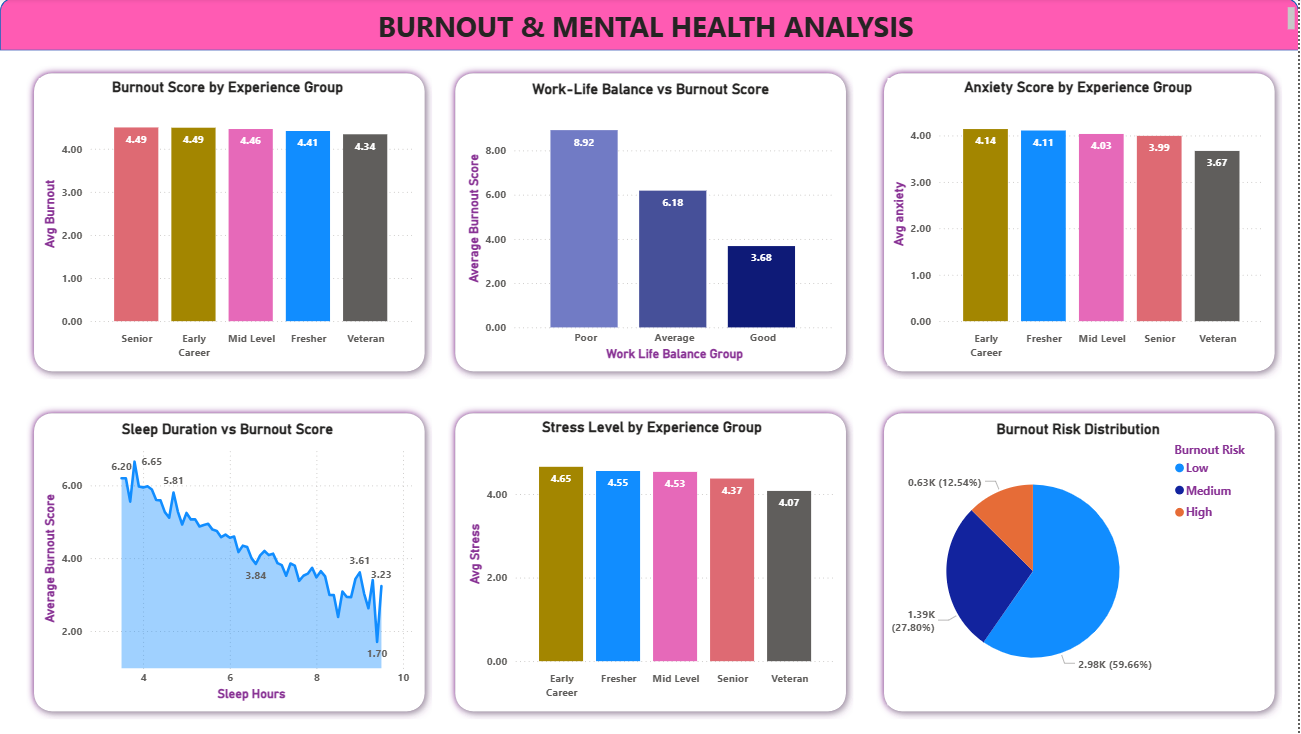

The page's visual inventory and layout, read from the dashboard file:
{"tool":"powerbi","page":{"name":"Page 3","canvas":[1500,850],"ordinal":2},"visuals":[{"type":"shape","box":[0,0,1499.9,60.6],"z":0},{"type":"textbox","box":[0,5.8,1499.9,49.1],"z":1000},{"type":"shape","box":[1012,78,469.2,362.3],"z":2000},{"type":"shape","box":[516.8,78,469.2,362.3],"z":3000},{"type":"shape","box":[1012,470.6,469.2,362.3],"z":4000},{"type":"shape","box":[30.3,78,469.2,362.3],"z":5000},{"type":"shape","box":[30.3,470.6,469.2,362.3],"z":6000},{"type":"shape","box":[516.8,470.6,469.2,362.3],"z":7000},{"type":"clusteredColumnChart","title":"Burnout Score by Experience Group","fields":{"Category":["public developer_burnout_data.Experience Group"],"Y":["public developer_burnout_data.Avg Burnout"]},"box":[44.8,92.4,436,332],"z":8000},{"type":"clusteredColumnChart","title":"Stress Level by Experience Group","fields":{"Category":["public developer_burnout_data.Experience Group"],"Y":["public developer_burnout_data.Avg Stress"]},"box":[535.6,485.1,434.5,332],"z":9000},{"type":"clusteredColumnChart","title":"Anxiety Score by Experience Group","fields":{"Category":["public developer_burnout_data.Experience Group"],"Y":["public developer_burnout_data.Avg anxiety"]},"box":[1025,92.4,440.3,332],"z":10000},{"type":"areaChart","title":"Sleep Duration vs Burnout Score","fields":{"Category":["public developer_burnout_data.sleep_hours"],"Y":["Avg(public developer_burnout_data.burnout_score)"]},"box":[44.8,487.9,436,329.1],"z":11000},{"type":"clusteredColumnChart","title":"Work-Life Balance vs Burnout Score","fields":{"Y":["Avg(public developer_burnout_data.burnout_score)"],"Category":["public developer_burnout_data.Work Life Balance Group"]},"box":[534.1,95.3,434.5,329.1],"z":12000},{"type":"pieChart","title":"Burnout Risk Distribution","fields":{"Category":["public developer_burnout_data.burnout_risk_category"],"Y":["CountNonNull(public developer_burnout_data.developer_id)"]},"box":[1025,487.9,440.3,329.1],"z":13000}]}

Visuals, with their boxes in screenshot pixels (x1, y1, x2, y2), scaled from the page's 1500x850 canvas onto the 1301x734 screenshot:
shape: {"left": 0, "top": 0, "right": 1300, "bottom": 52}
textbox: {"left": 0, "top": 5, "right": 1300, "bottom": 47}
shape: {"left": 878, "top": 67, "right": 1285, "bottom": 380}
shape: {"left": 448, "top": 67, "right": 855, "bottom": 380}
shape: {"left": 878, "top": 406, "right": 1285, "bottom": 719}
shape: {"left": 26, "top": 67, "right": 433, "bottom": 380}
shape: {"left": 26, "top": 406, "right": 433, "bottom": 719}
shape: {"left": 448, "top": 406, "right": 855, "bottom": 719}
"Burnout Score by Experience Group" clusteredColumnChart: {"left": 39, "top": 80, "right": 417, "bottom": 366}
"Stress Level by Experience Group" clusteredColumnChart: {"left": 465, "top": 419, "right": 841, "bottom": 706}
"Anxiety Score by Experience Group" clusteredColumnChart: {"left": 889, "top": 80, "right": 1271, "bottom": 366}
"Sleep Duration vs Burnout Score" areaChart: {"left": 39, "top": 421, "right": 417, "bottom": 706}
"Work-Life Balance vs Burnout Score" clusteredColumnChart: {"left": 463, "top": 82, "right": 840, "bottom": 366}
"Burnout Risk Distribution" pieChart: {"left": 889, "top": 421, "right": 1271, "bottom": 706}
